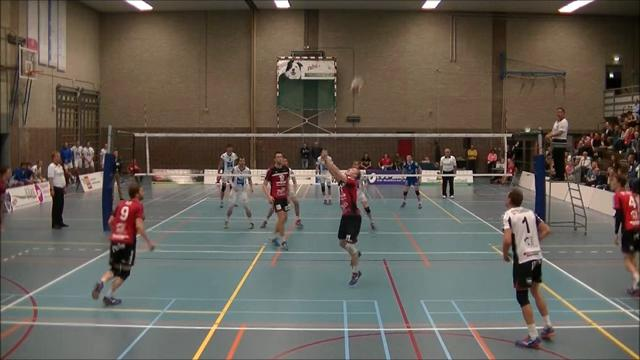Player: (502, 189, 554, 347), (92, 183, 154, 305), (612, 175, 639, 294), (262, 152, 289, 250), (224, 157, 253, 228), (218, 144, 237, 207), (401, 155, 421, 208), (357, 173, 375, 229), (288, 168, 302, 228), (316, 149, 331, 204)
Set: (317, 146, 370, 290)
ball: (351, 78, 365, 95)
